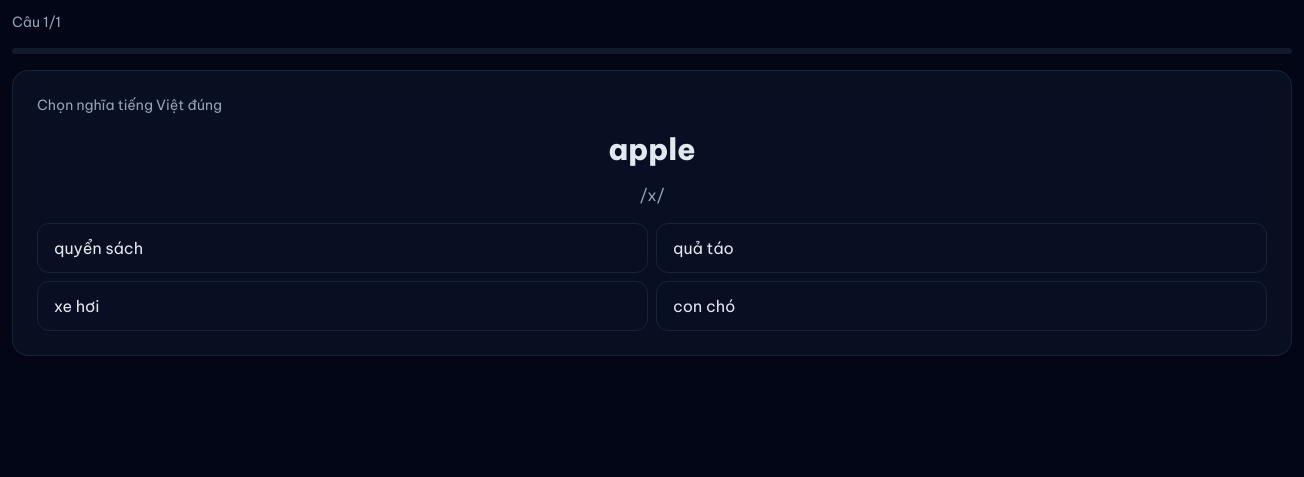
Test case: QuizSession › chọn sai thì hiện đáp án đúng
Click the button "xe hơi": (77, 306) [37,281,648,331]
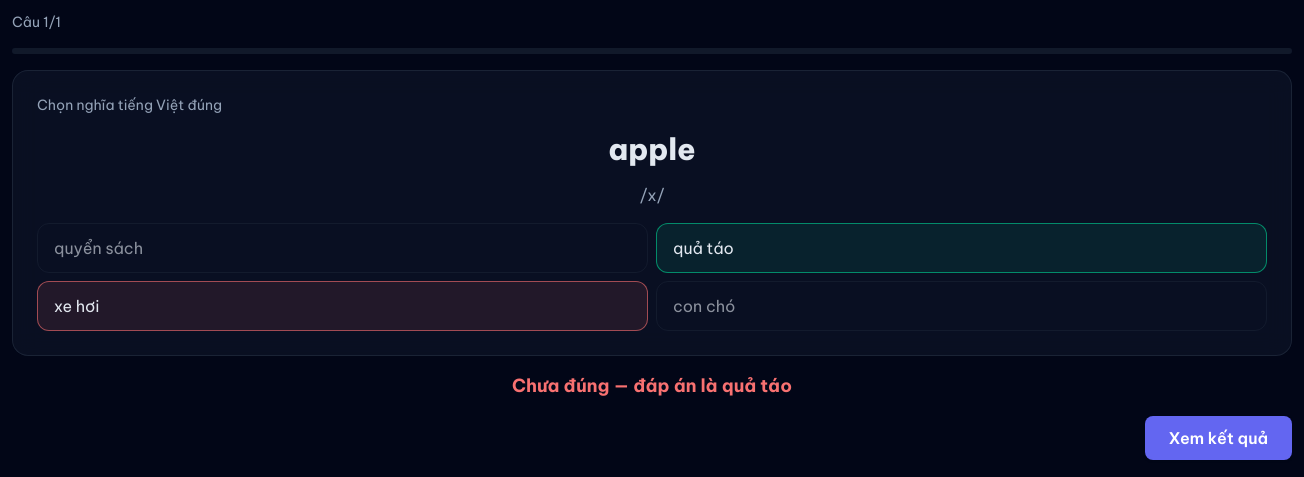
Check: the text "Chưa đúng — đáp án là quả táo" is shown, box [512,374,792,397]
